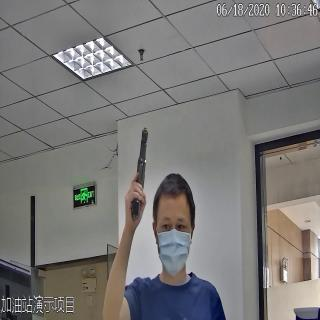gun: (124, 129, 151, 219)
